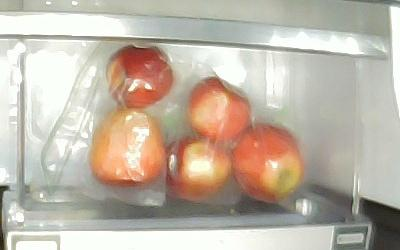apple_vinyl: (89, 109, 166, 187), (231, 122, 302, 203), (106, 44, 174, 109), (186, 76, 251, 143), (166, 135, 231, 199)
